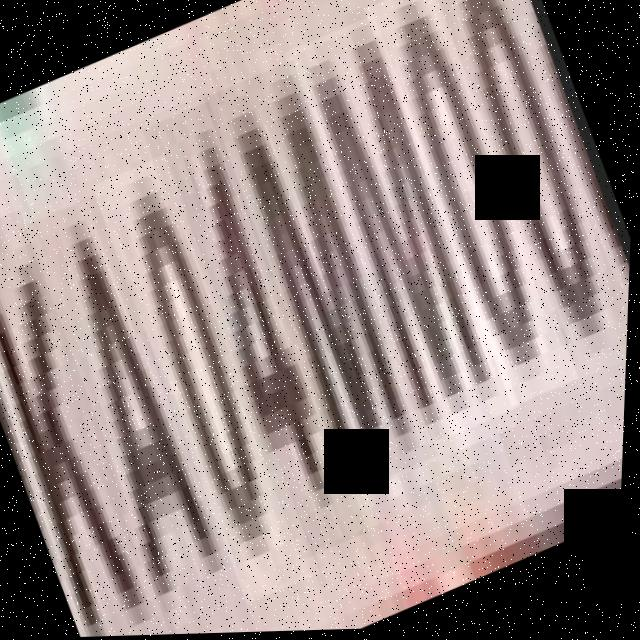0: (113, 178, 299, 593), (376, 0, 565, 408), (444, 0, 626, 370)
4: (192, 103, 360, 561)
A: (47, 216, 252, 635)
K: (0, 210, 167, 637)
M: (219, 62, 435, 494), (297, 16, 510, 443)
